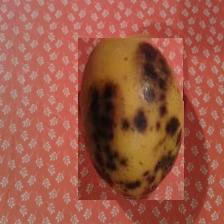Mango Semirotten: (79, 38, 185, 200)
